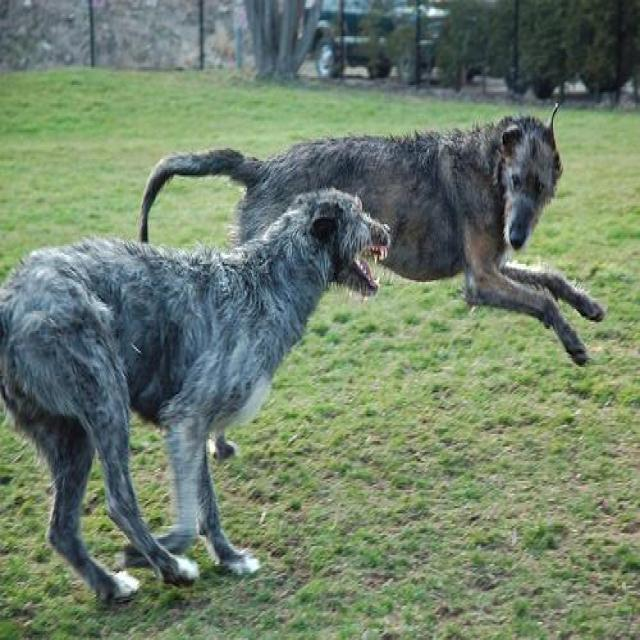irish_wolfhound: (138, 101, 606, 465), (0, 182, 394, 604)
